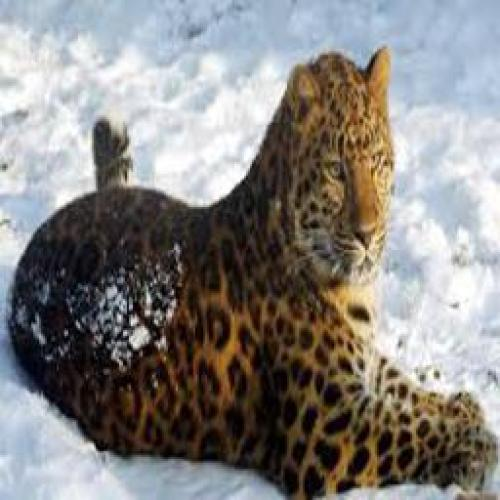amur_leopard-endangered: (180, 39, 418, 459)
